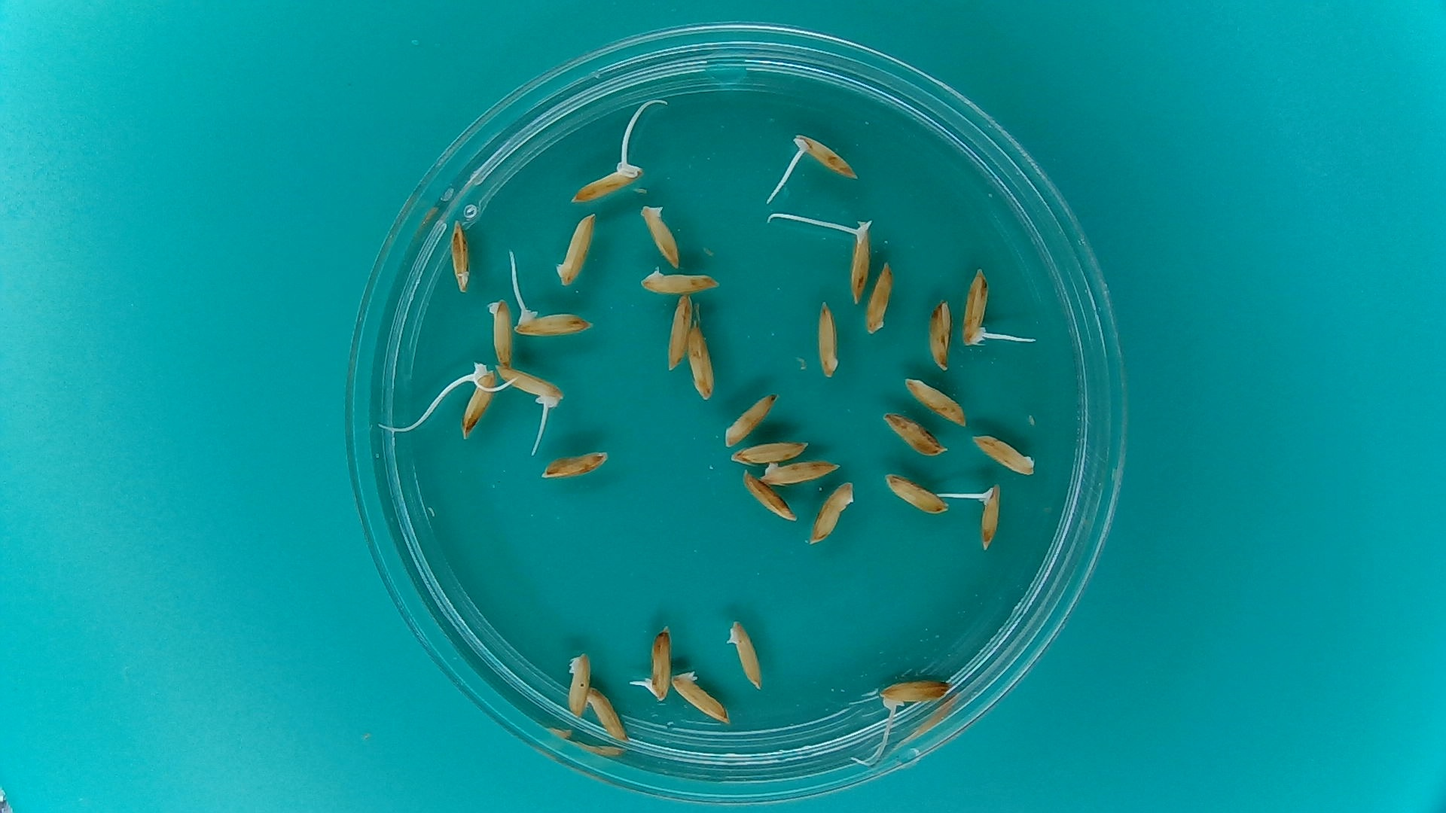no: (901, 373, 970, 429), (670, 667, 733, 727), (551, 209, 598, 289), (805, 479, 857, 547), (877, 408, 947, 458), (721, 389, 779, 447), (740, 465, 796, 523), (968, 431, 1038, 477), (638, 199, 684, 269), (883, 470, 951, 516), (685, 318, 718, 403), (863, 257, 897, 338), (812, 297, 844, 381), (587, 684, 631, 745), (538, 446, 612, 482), (757, 457, 842, 487), (664, 290, 695, 372), (727, 438, 810, 467), (925, 294, 954, 373), (485, 293, 514, 367), (448, 218, 474, 297), (564, 648, 592, 721)
yes: (494, 363, 568, 415), (450, 361, 499, 437), (791, 129, 862, 181), (566, 157, 639, 206), (725, 615, 769, 693), (874, 674, 955, 715), (636, 622, 674, 704), (959, 257, 991, 352), (511, 306, 599, 339), (634, 264, 724, 296), (845, 206, 874, 305), (969, 480, 1003, 553)
